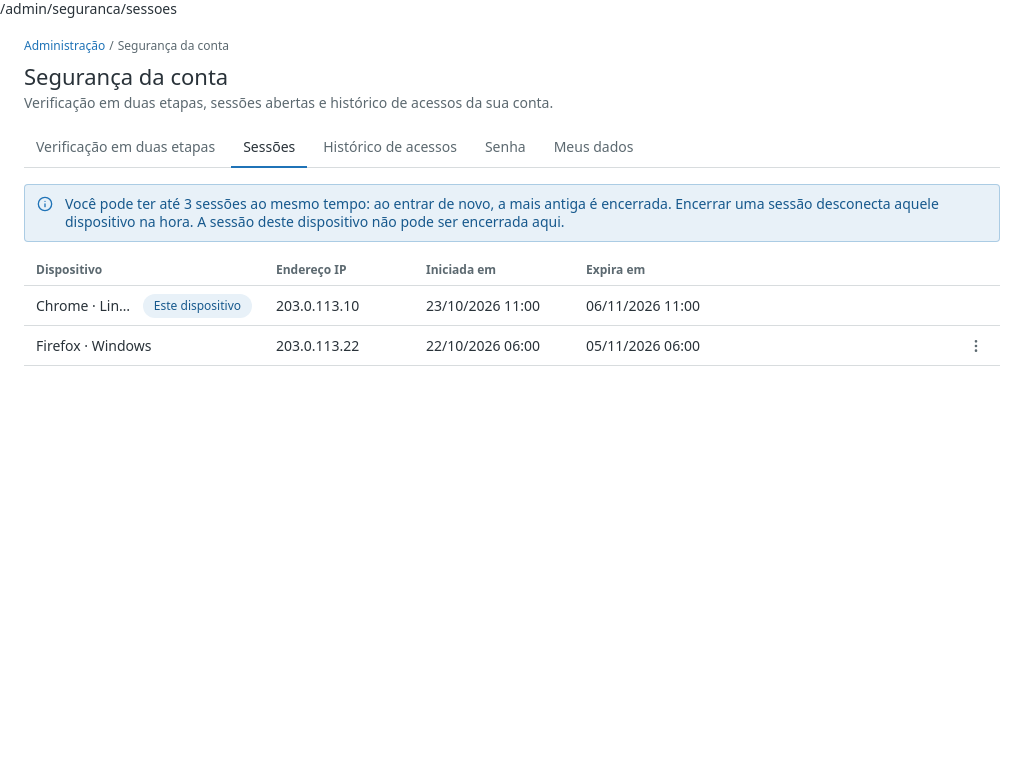
Test: Segurança: sessões, histórico e senha › a sessão atual não tem ação; encerrar outra pede confirmação
This screenshot has width=1024, height=768.
Expected: the text with test id "loc" reads "/admin/seguranca/sessoes", [0,0,177,18]
Expected: the text "Este dispositivo" is shown, [154,298,241,314]
Step 1. Click the button named "Mais ações" → (976, 346), box [960,330,992,362]
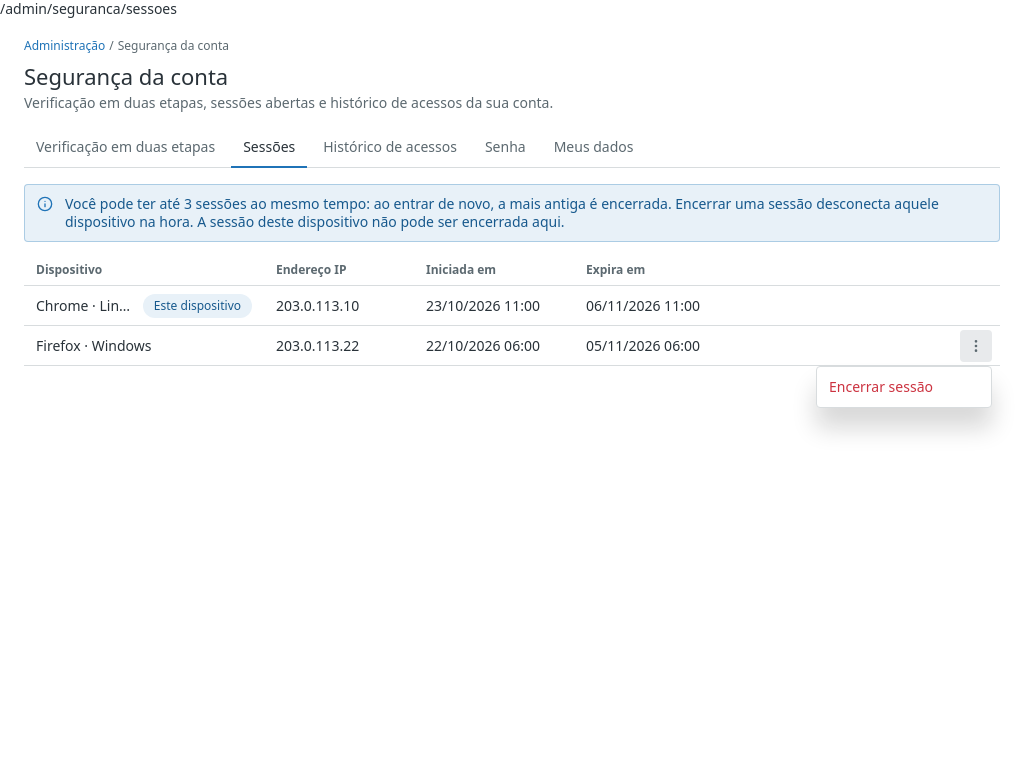
Step 2. Click the menu item "Encerrar sessão" → (881, 386), box [829,377,933,396]
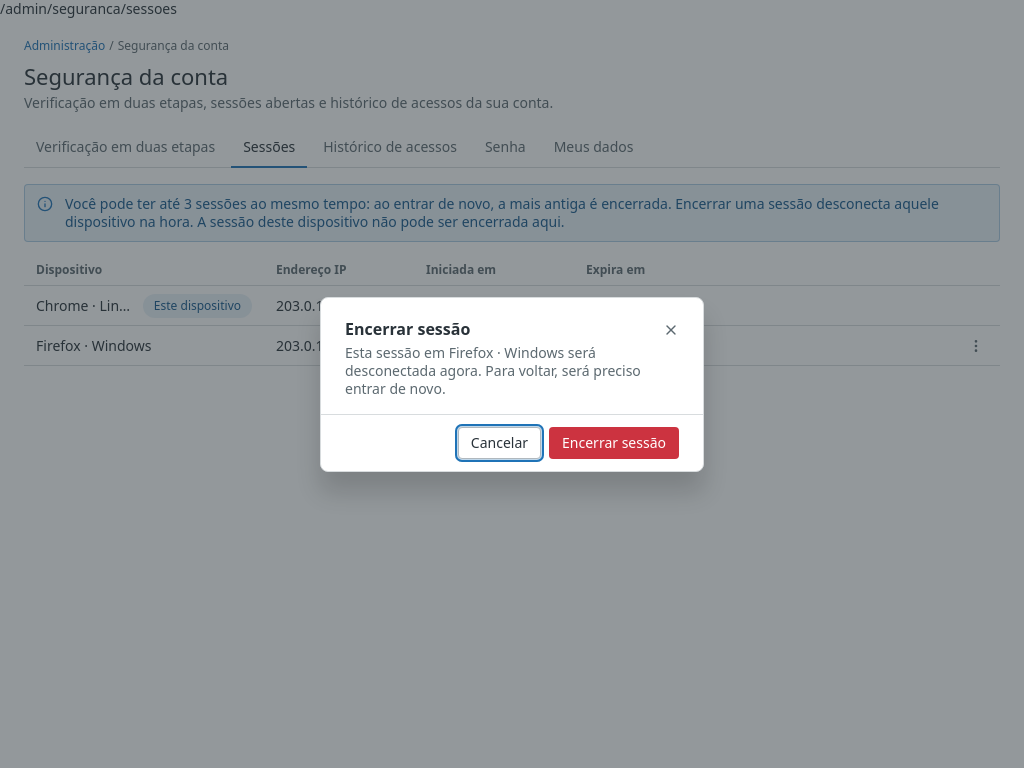
Result: the text "será desconectada agora" is shown at [345,342,641,398]
Step 3. Click the button "Encerrar sessão" → (614, 442), box [549,426,679,458]
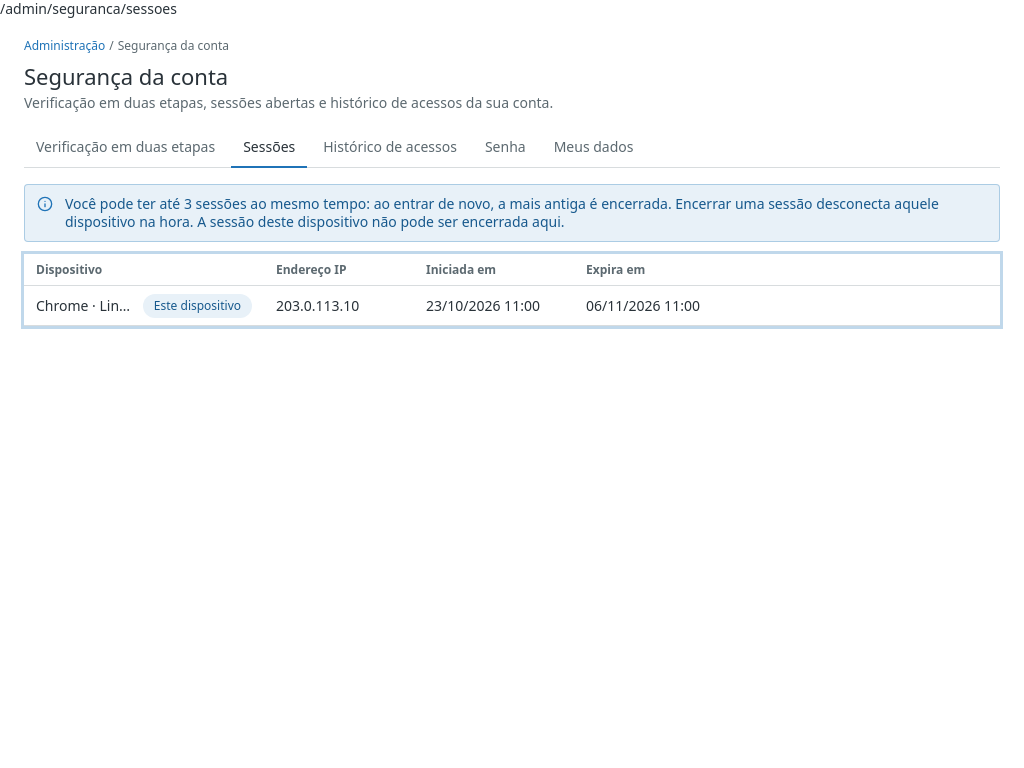
Expected: the text "Chrome · Linux" is shown, [36,296,135,314]
Result: the text "Firefox · Windows" is gone
